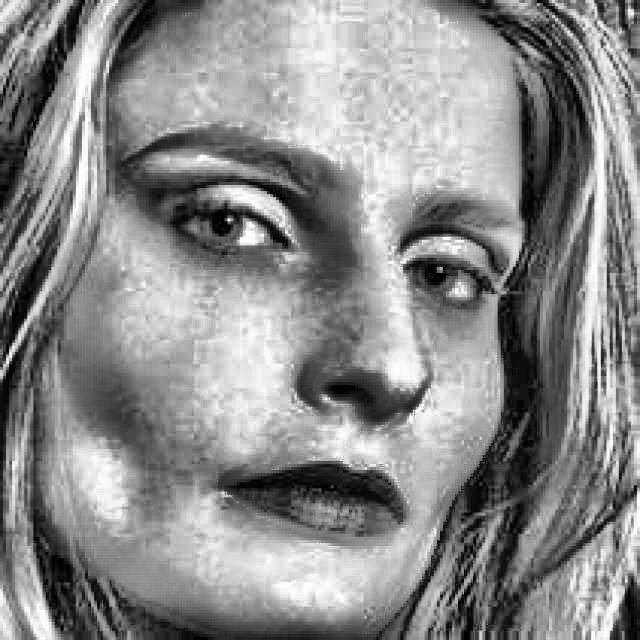sad: (85, 18, 537, 624)
